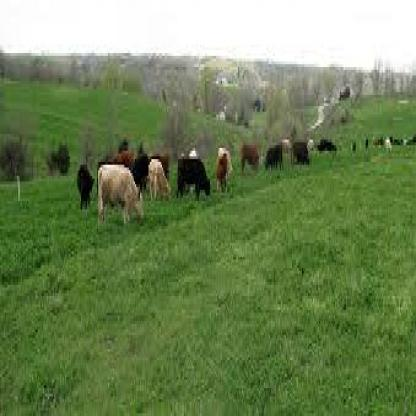cow: (98, 165, 145, 229), (177, 158, 211, 202), (148, 159, 171, 204), (76, 160, 95, 211), (215, 145, 232, 196), (131, 151, 149, 195), (239, 142, 260, 176), (263, 144, 284, 174), (216, 150, 229, 192), (291, 138, 310, 166), (115, 148, 134, 167)
